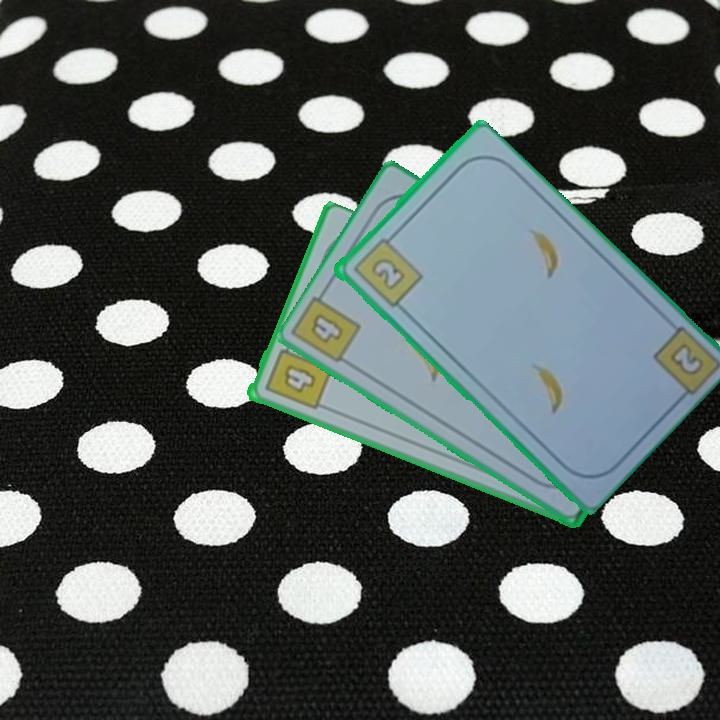2b: (348, 229, 425, 310), (665, 339, 706, 379)
4b: (260, 337, 334, 413), (306, 309, 346, 347)
